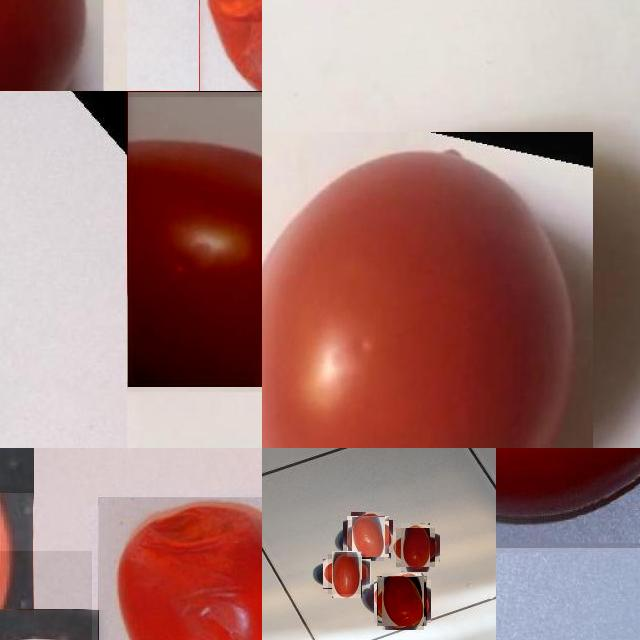Fresh Tomato: (262, 132, 593, 448), (127, 91, 262, 387), (496, 448, 640, 548), (378, 576, 428, 626), (347, 516, 389, 557), (396, 528, 435, 567), (328, 554, 366, 594)
Rotten Tomato: (98, 497, 262, 640), (199, 0, 262, 91)
